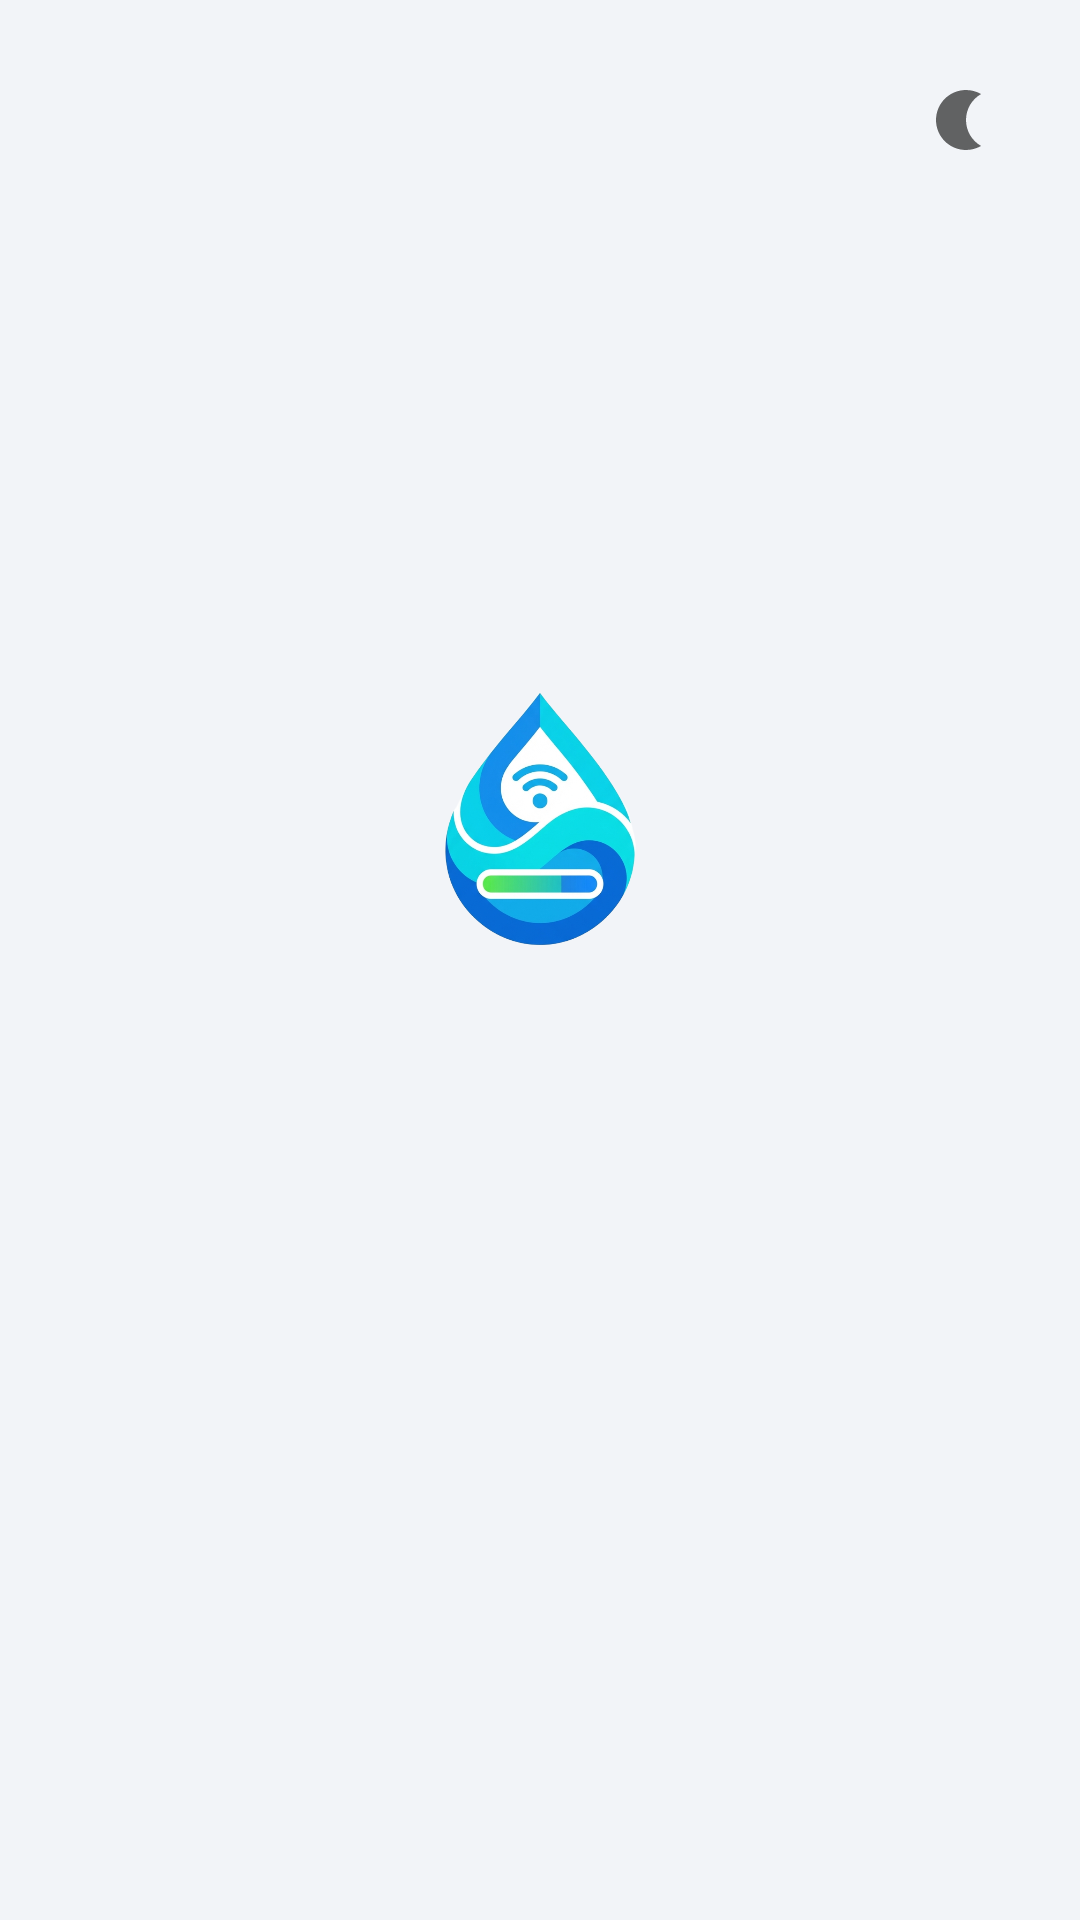

Named icons in this screenshot (1080*1920) and their bounding boxes, Rect(x1, y1, x2, y2):
moon: Rect(936, 90, 981, 150)
